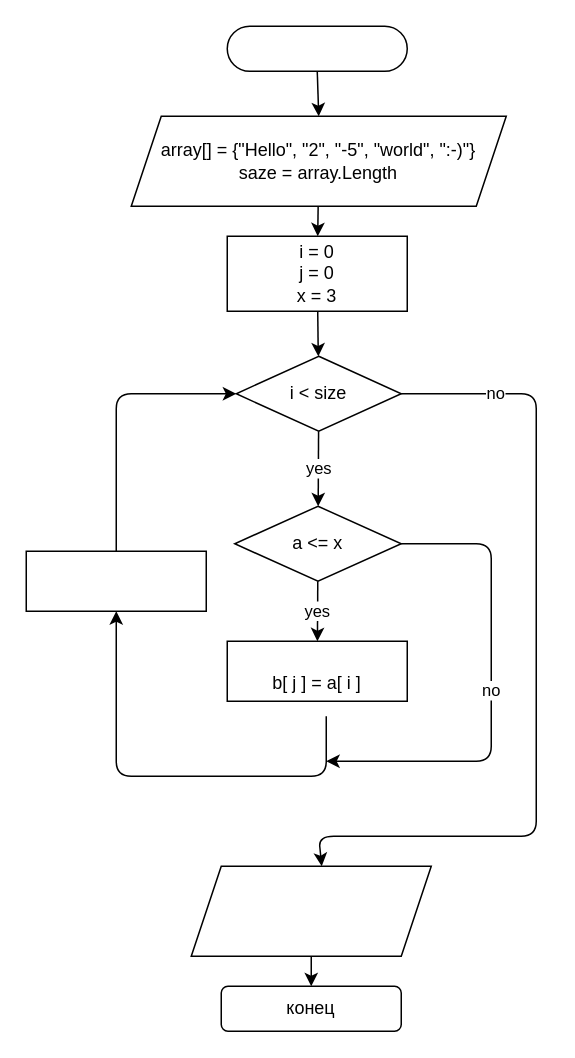
Some shapes in this 575 by 1058 pixel diagram are drawn without their labels. Here are the shapes that lost their labels. From the top down, the centre of each, then its label:
At point (316, 48): "начало".
At point (115, 580): "i = i + 1".
At point (310, 910): "print b [ j ]".
